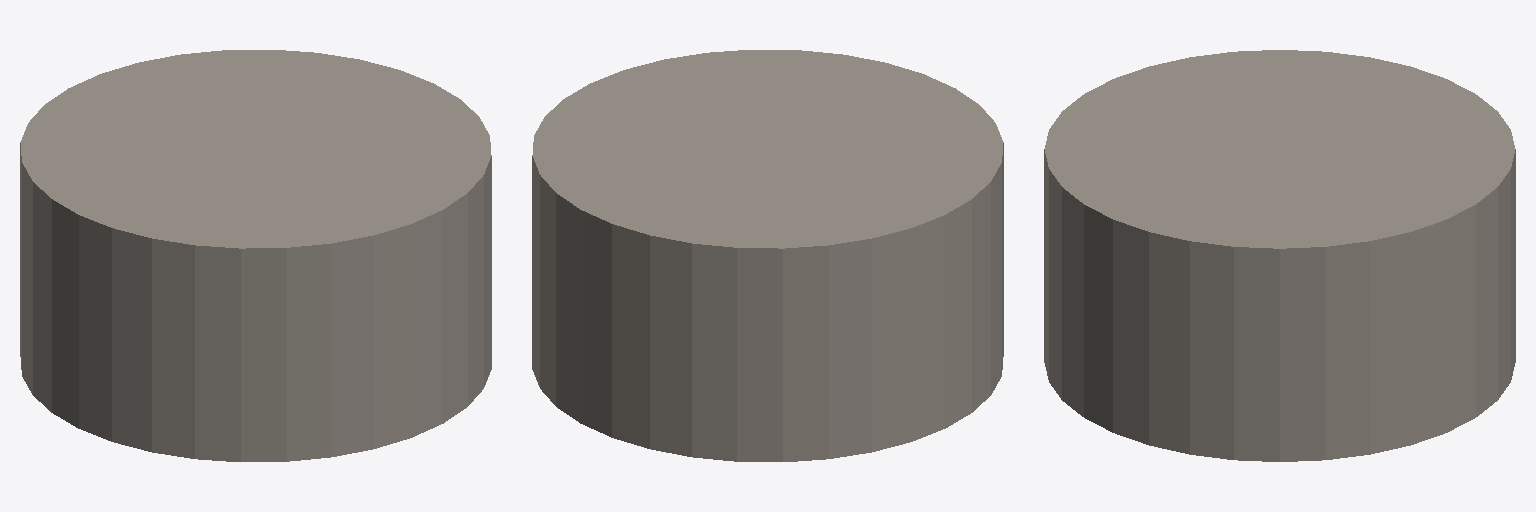
robot.urdf — camera:
<robot name="camera">
<link name="camera">

    <inertial>
      <mass value="0.1"/>
      <origin xyz="0 0 0" rpy="0 0 0"/> 
      <inertia
          ixx="1e-6" ixy="0" ixz="0"
          iyy="1e-6" iyz="0"
          izz="1e-6"
      />
    </inertial>

    <collision name='collision_camera'>
      <origin xyz="0 0 0" rpy="0 0 0"/> 
      <geometry>
        <box size=".05 .05 .05"/>
      </geometry>
    </collision>

    <visual name='camera_visual'>
      <origin xyz="0 0 0" rpy="0 0 0"/>  
      <geometry>
        <cylinder radius="0.05" length="0.05"/>
      </geometry>
      <material
        name="">
        <color
          rgba="0.64706 0.61961 0.58824 1" />
      </material>
    </visual>

  </link>
</robot>

--- Render facts (derived) ---
The picture shows the robot from 3 angles, left to right: view 1: azimuth 30°, elevation 25°; view 2: azimuth 150°, elevation 25°; view 3: azimuth 270°, elevation 25°; orthographic projection.
Robot: camera — 1 links, 0 joints (none); root link camera; default pose: every joint at zero.
Visible links, largest first — view 1: camera; view 2: camera; view 3: camera.
Link boxes in pixels (x1,y1,x2,y2): camera: (20, 50, 491, 461); camera: (532, 50, 1003, 461); camera: (1044, 50, 1515, 461).
Size in the robot's own frame: 0.1 by 0.1 by 0.05 metres.
Geometry: primitives only (box / cylinder / sphere), no mesh files.